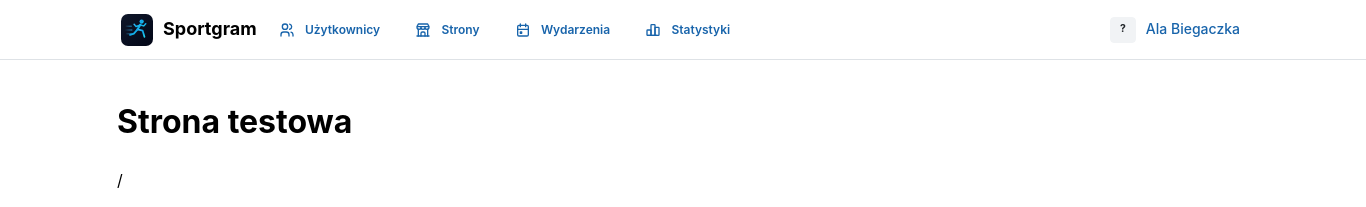
Scenario: AppLayout and navigation › navigates through section links and highlights the selected section
The image size is (1366, 207).
Click the button "Strony" at (450, 30), box top-left (405, 14), bottom-right (495, 44)
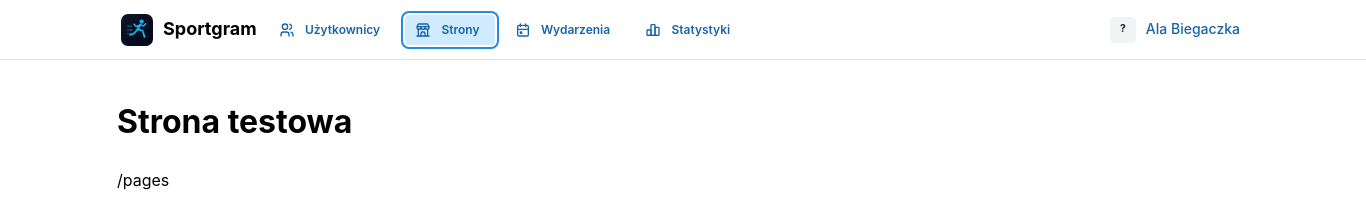
Expected: the text named "current location" reads "/pages", top-left (117, 170), bottom-right (169, 190)
